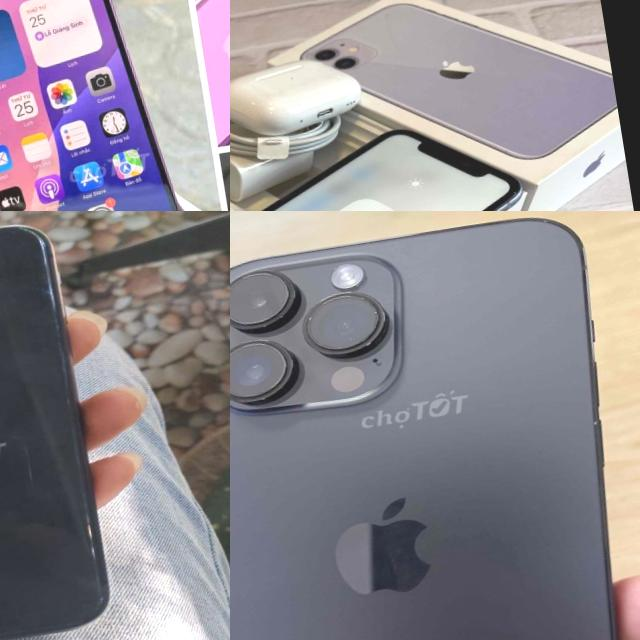gen_11: (0, 211, 142, 640), (230, 99, 552, 211)
gen_14: (230, 211, 640, 640)
gen_16: (0, 0, 216, 211)
scratch: (10, 212, 116, 618), (0, 252, 32, 337)
